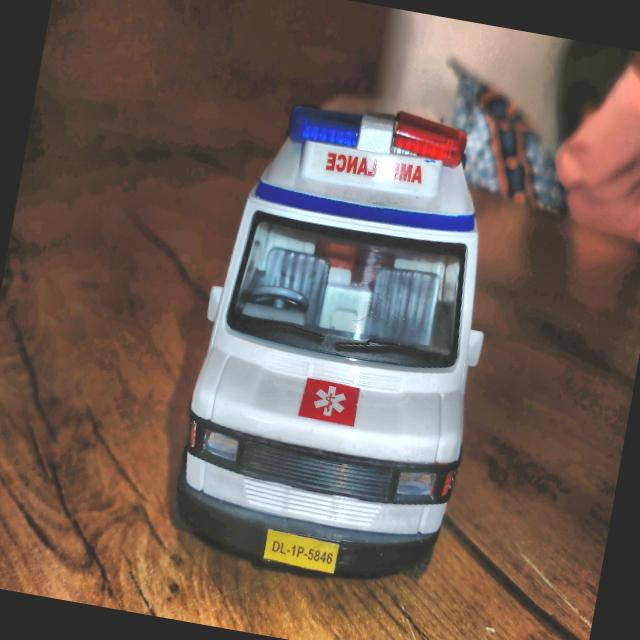Ambulance: (166, 84, 518, 593)
